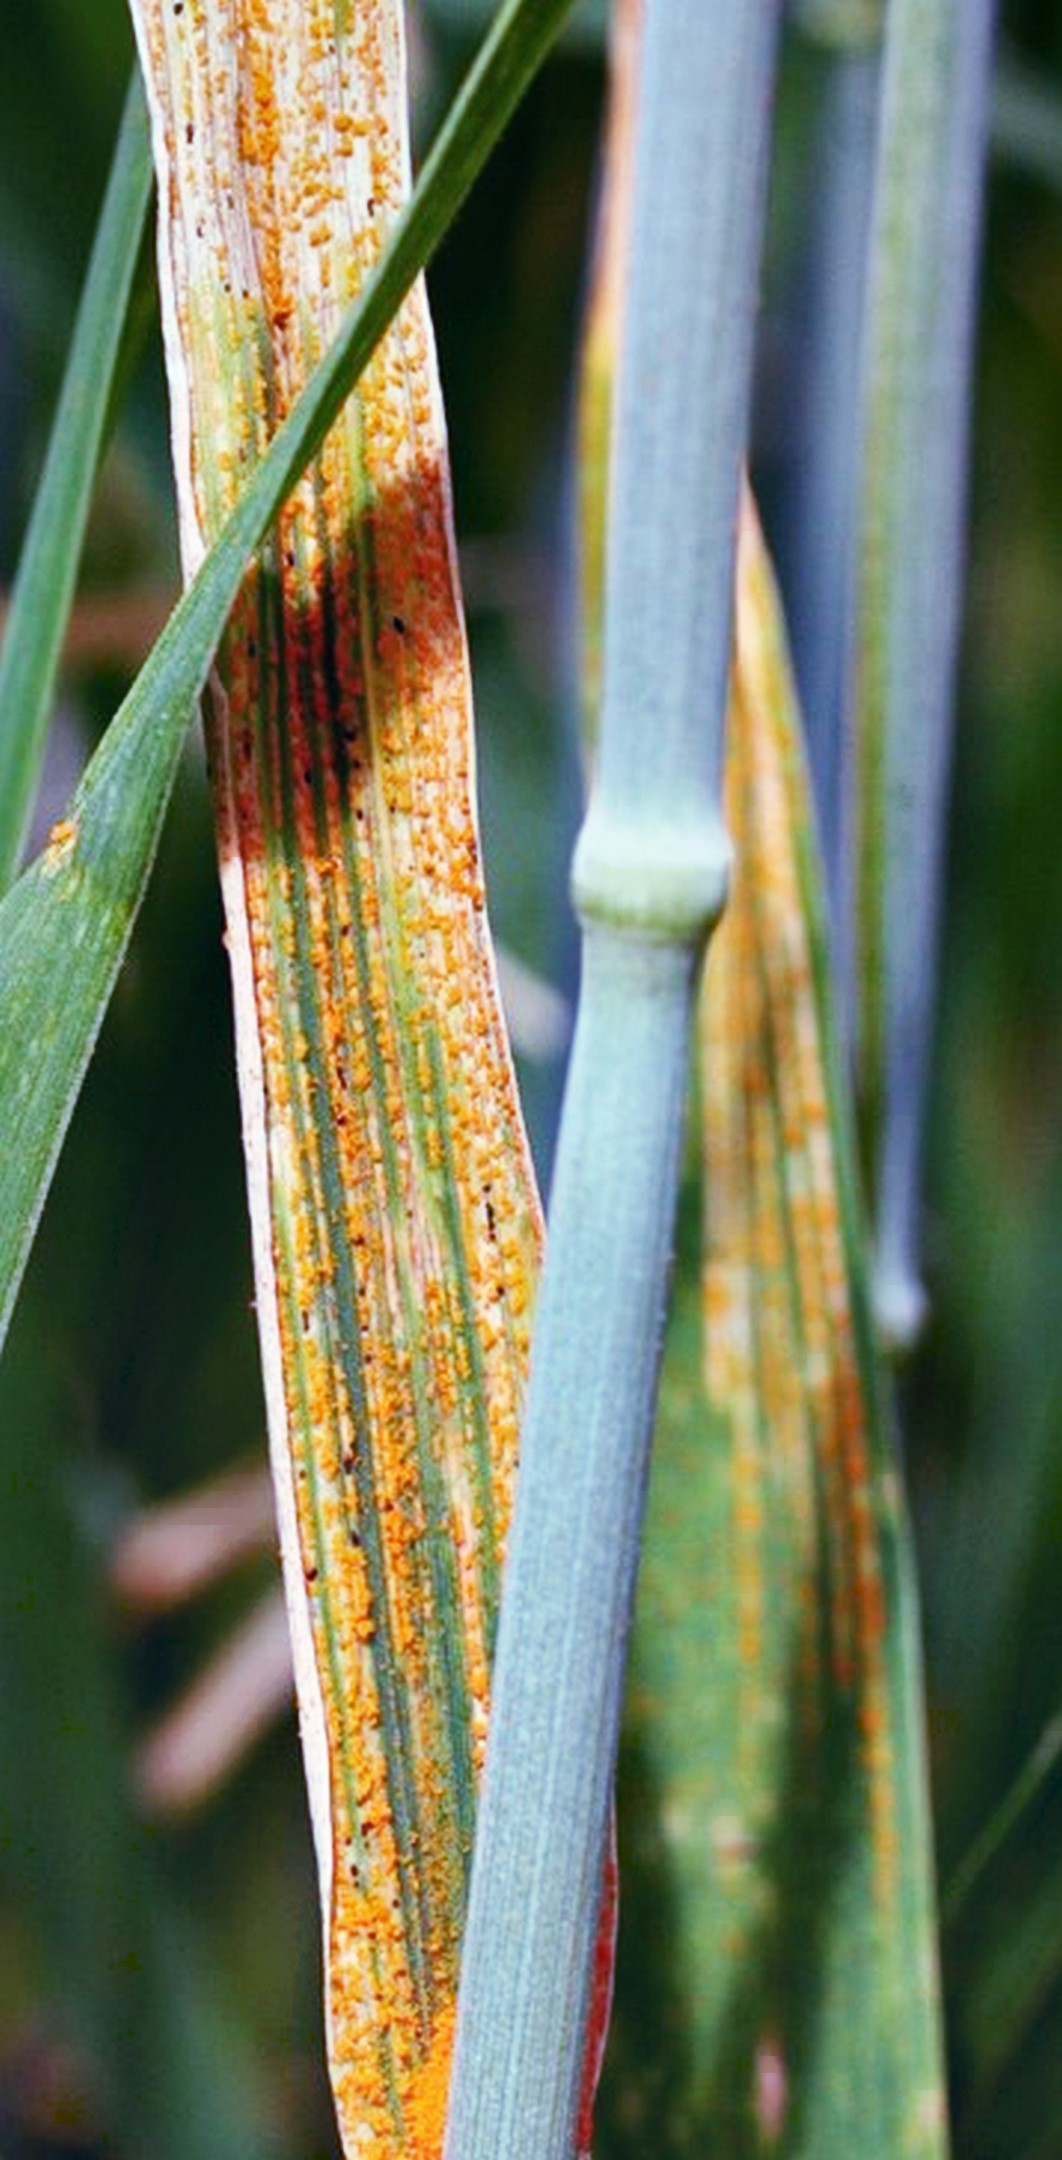Leaf Rust: (160, 136, 523, 2004)
